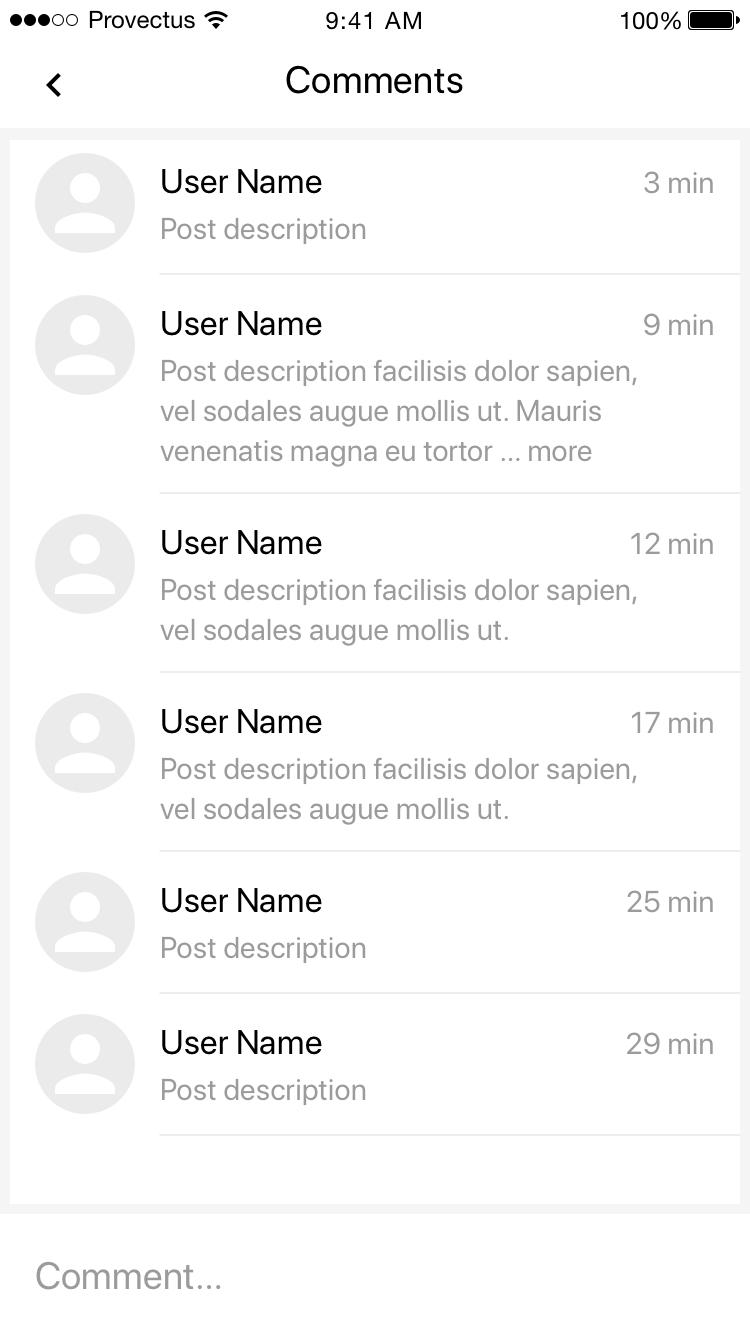EditText: (1, 1213, 750, 1333)
Icon: (32, 150, 136, 254), (34, 292, 137, 397), (33, 512, 137, 615), (33, 691, 136, 794), (32, 1013, 136, 1115), (32, 873, 136, 973), (42, 70, 64, 100)
Text: (158, 356, 638, 468), (156, 578, 636, 647), (157, 756, 637, 825), (158, 214, 367, 247), (158, 1076, 368, 1107), (158, 934, 367, 965), (285, 63, 465, 97), (158, 524, 324, 557), (159, 164, 323, 197), (159, 884, 322, 916), (157, 307, 324, 338), (159, 1026, 324, 1056), (159, 706, 322, 736), (625, 530, 717, 560), (625, 1027, 715, 1057), (628, 708, 715, 737), (621, 889, 718, 915), (643, 310, 718, 338), (641, 170, 715, 197)
UpperTaskBar: (1, 1, 750, 33)
